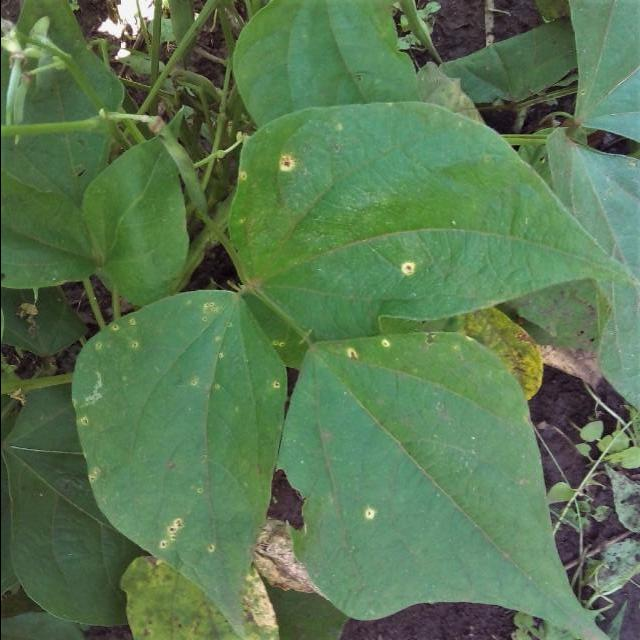embun tepung: (446, 165, 536, 298), (482, 449, 519, 599)
hawar: (62, 296, 286, 588), (243, 114, 441, 322), (326, 328, 472, 575)
sehat: (242, 12, 361, 90), (89, 185, 168, 274)
